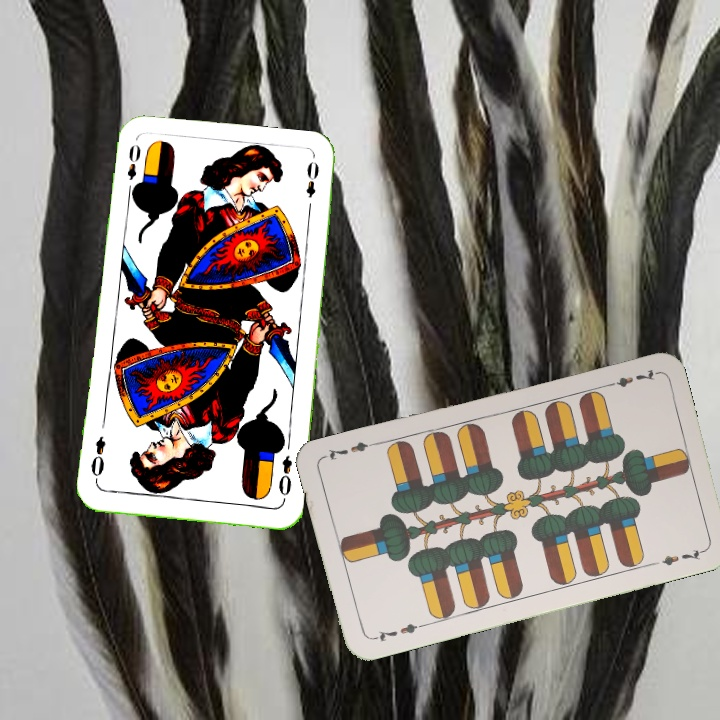E7: (368, 619, 426, 644), (601, 365, 659, 390)
EO: (123, 140, 143, 198), (275, 451, 294, 498)
